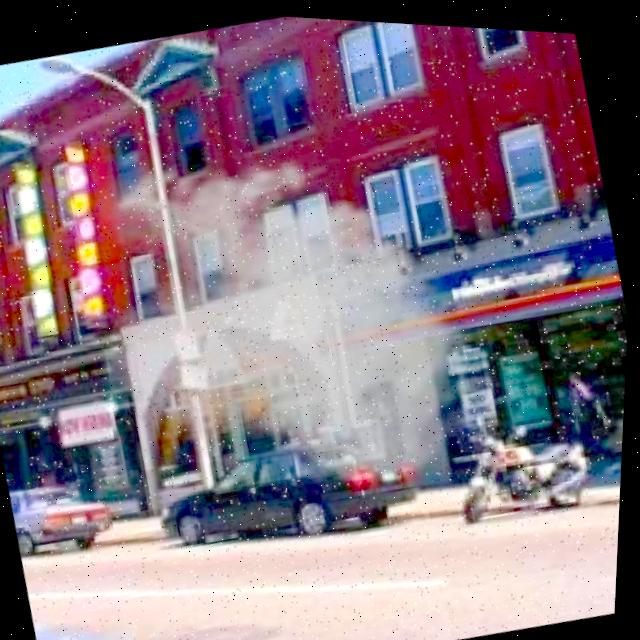Smoke: (131, 116, 488, 519)
